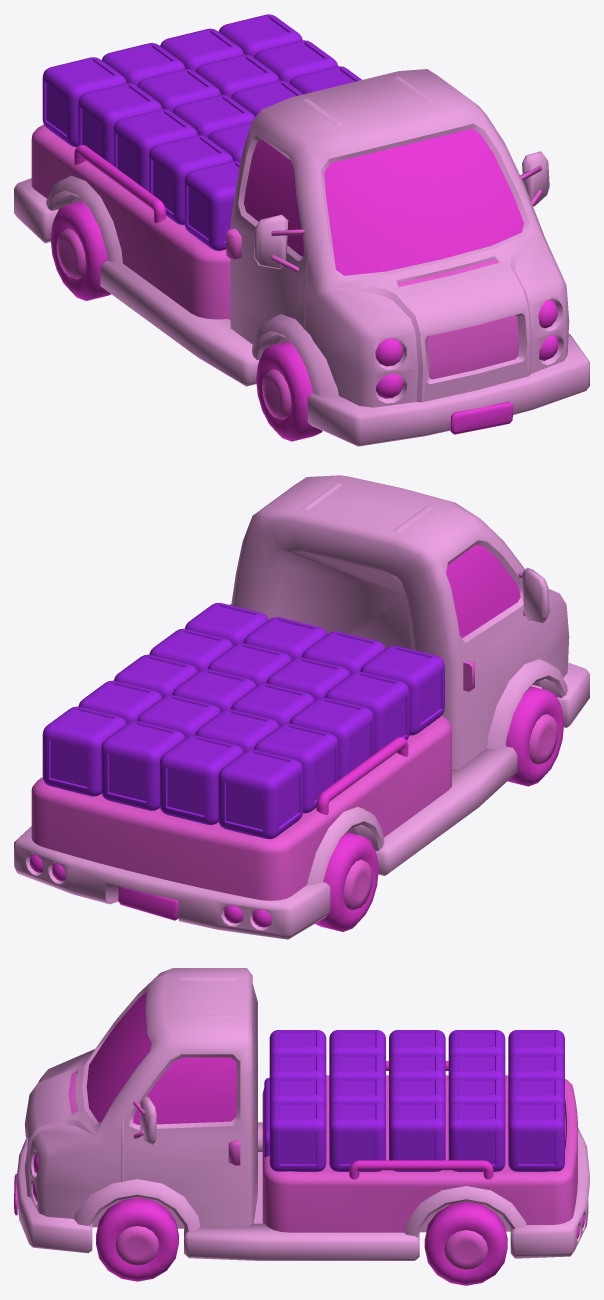
Rendered from Pink-Truck.fbx.
The picture shows the model from 3 angles, top to bottom: view 1: azimuth 30°, elevation 25°; view 2: azimuth 150°, elevation 25°; view 3: azimuth 270°, elevation 25°; orthographic projection. The views are drawn at different scales.
Parts seen in each view (by area): view 1: Truck, Till, Wheel_2A_R.R, Box.002, Box.018, Box.017, Box.009, Box.010, Box.005, Box.006, Box.007, Box.003 (+7 smaller); view 2: Truck, Till, Wheel_2A_R.R, Box.002, Box.003, Box.005, Box.004, Box.018, Box.009, Box.017, Box.010, Box.007 (+12 smaller); view 3: Truck, Till, Wheel_2A_R.R, Box.021, Box.005, Box.014, Box.006, Box.013, Handle_02, Box.007, Box.008, Box.009 (+13 smaller).
Part boxes in pixels (left/top/right/bottom): Truck: left=14, top=69, right=589, bottom=446; Till: left=31, top=124, right=230, bottom=320; Wheel_2A_R.R: left=50, top=201, right=322, bottom=441; Box.002: left=42, top=57, right=126, bottom=146; Box.018: left=184, top=161, right=240, bottom=250; Box.017: left=149, top=135, right=233, bottom=224; Box.009: left=78, top=83, right=162, bottom=165; Box.010: left=113, top=109, right=197, bottom=191; Box.005: left=218, top=14, right=302, bottom=57; Box.006: left=254, top=40, right=337, bottom=83; Box.007: left=195, top=54, right=279, bottom=97; Box.003: left=102, top=43, right=185, bottom=85; Truck: left=14, top=475, right=589, bottom=939; Till: left=31, top=715, right=451, bottom=900; Wheel_2A_R.R: left=315, top=686, right=563, bottom=931; Box.002: left=218, top=749, right=302, bottom=839; Box.003: left=159, top=735, right=243, bottom=824; Box.005: left=42, top=706, right=126, bottom=796; Box.004: left=101, top=721, right=185, bottom=810; Box.018: left=360, top=645, right=444, bottom=735; Box.009: left=254, top=723, right=338, bottom=813; Box.017: left=325, top=671, right=409, bottom=753; Box.010: left=289, top=697, right=373, bottom=779; Box.007: left=137, top=695, right=220, bottom=737; Truck: left=14, top=968, right=589, bottom=1260; Till: left=262, top=1075, right=577, bottom=1232; Wheel_2A_R.R: left=96, top=1197, right=507, bottom=1285; Box.021: left=269, top=1102, right=326, bottom=1171; Box.005: left=508, top=1102, right=564, bottom=1171; Box.014: left=329, top=1102, right=385, bottom=1171; Box.006: left=448, top=1102, right=505, bottom=1171; Box.013: left=389, top=1102, right=445, bottom=1171; Handle_02: left=349, top=1160, right=493, bottom=1179; Box.007: left=448, top=1078, right=505, bottom=1109; Box.008: left=448, top=1054, right=505, bottom=1085; Box.009: left=448, top=1030, right=505, bottom=1061.
Bounding box in the file's own units: 2.76 × 2.48 × 5.56.
